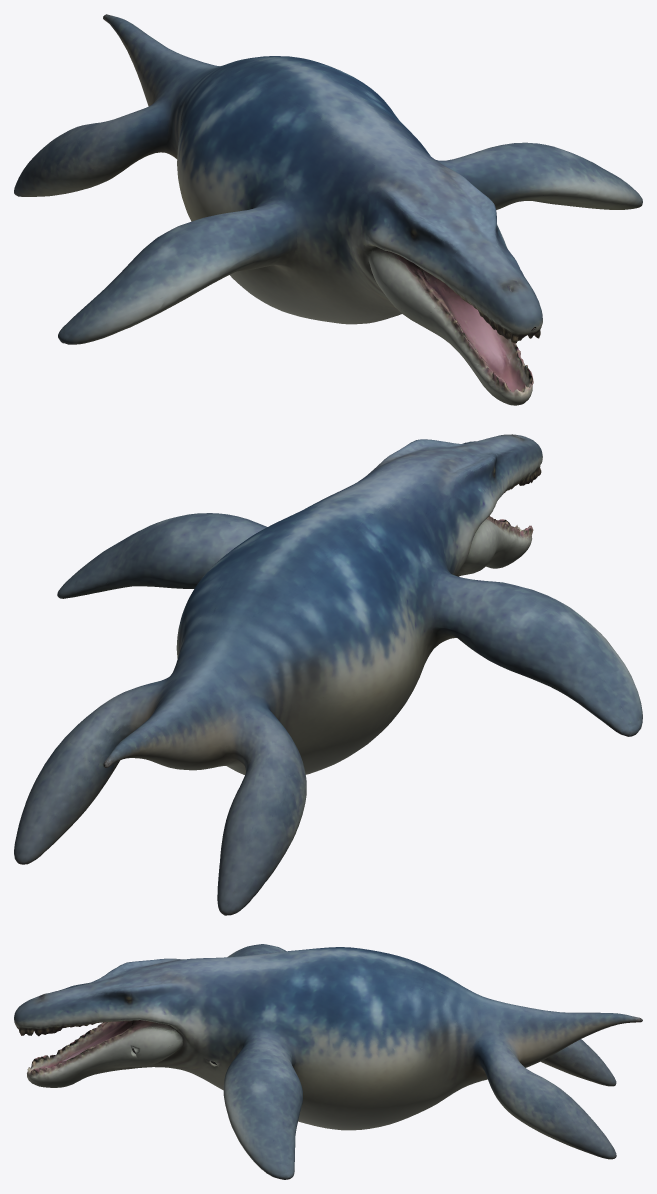
3 renders of one model, top to bottom at view 1: azimuth 30°, elevation 25°; view 2: azimuth 150°, elevation 25°; view 3: azimuth 270°, elevation 25°, orthographic. The views are drawn at different scales.
Parts seen in each view (by area): view 1: world; view 2: world; view 3: world.
Boxes of the visible parts, <box> form: world: <box>14,14,642,405</box>; world: <box>14,434,642,915</box>; world: <box>14,944,642,1179</box>.
Size of the model in its own units: 7.8 by 3.03 by 10.
Materials: 1 (1 with a texture image).
